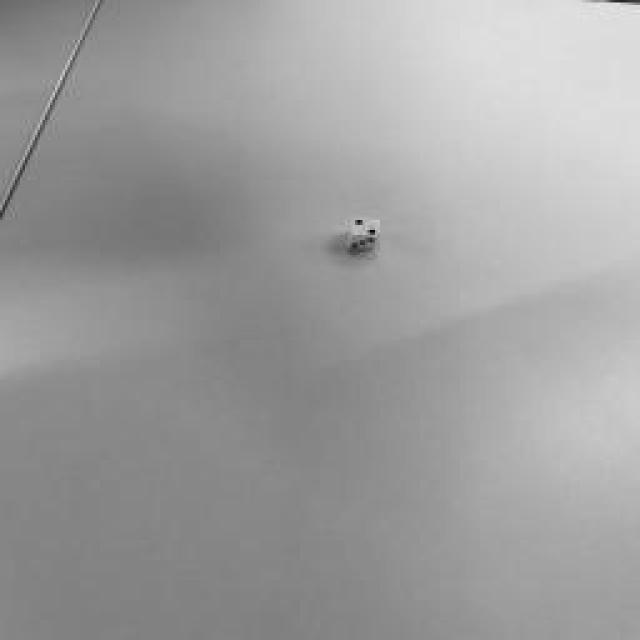dice_2: (351, 219, 379, 236)
